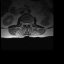CCS_normal: (26, 21, 27, 28)
LFS_normal: (29, 20, 30, 26)
LLS_normal: (27, 20, 29, 26)
RFS_normal: (23, 20, 24, 26)
RLS_normal: (24, 21, 26, 26)
